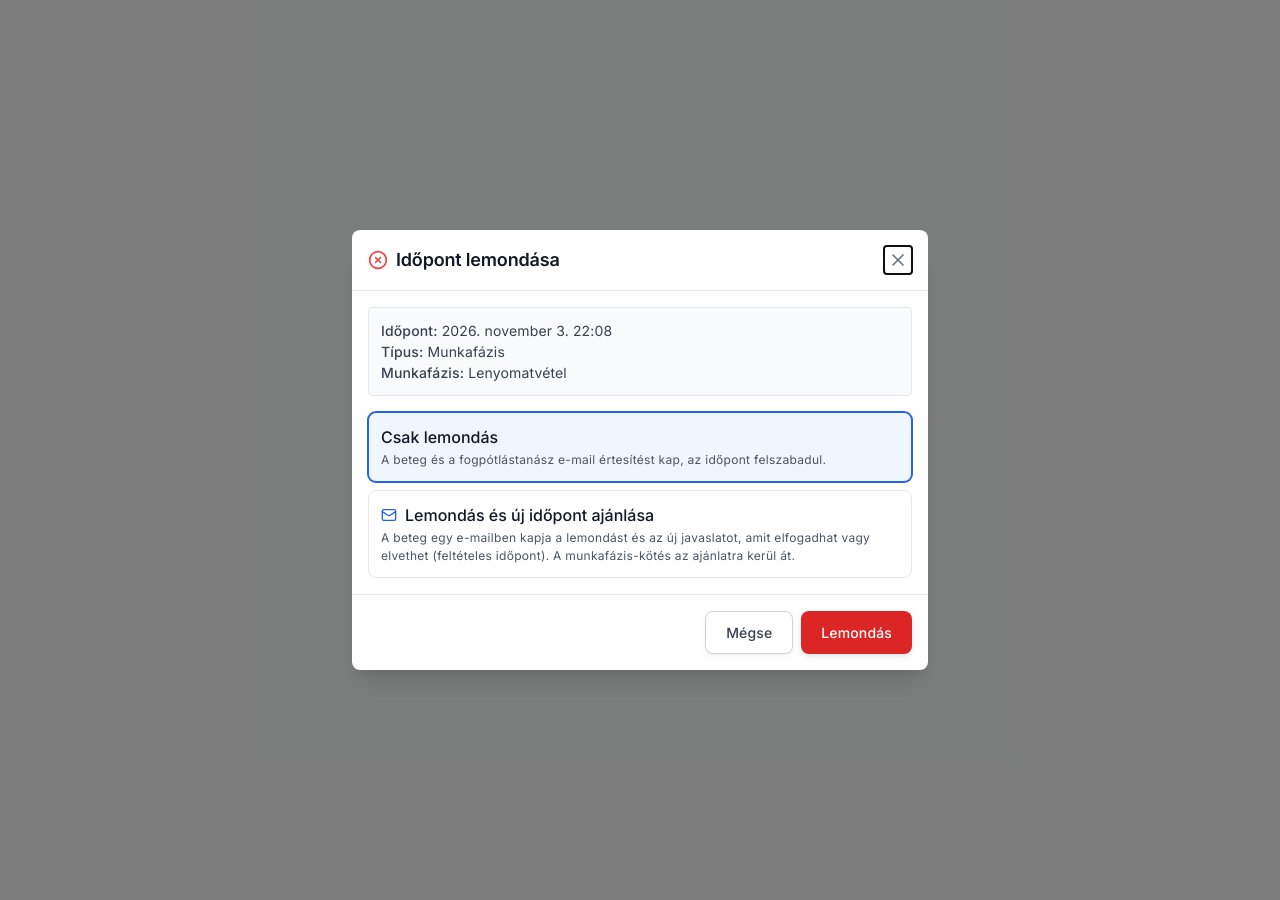
Test case: CancelAppointmentDialog › sikertelen művelet: hibaüzenet marad, a dialógus nem zár
The width and height of the screenshot is (1280, 900).
Click the button "Lemondás": (857, 633) top-left (801, 611), bottom-right (912, 654)
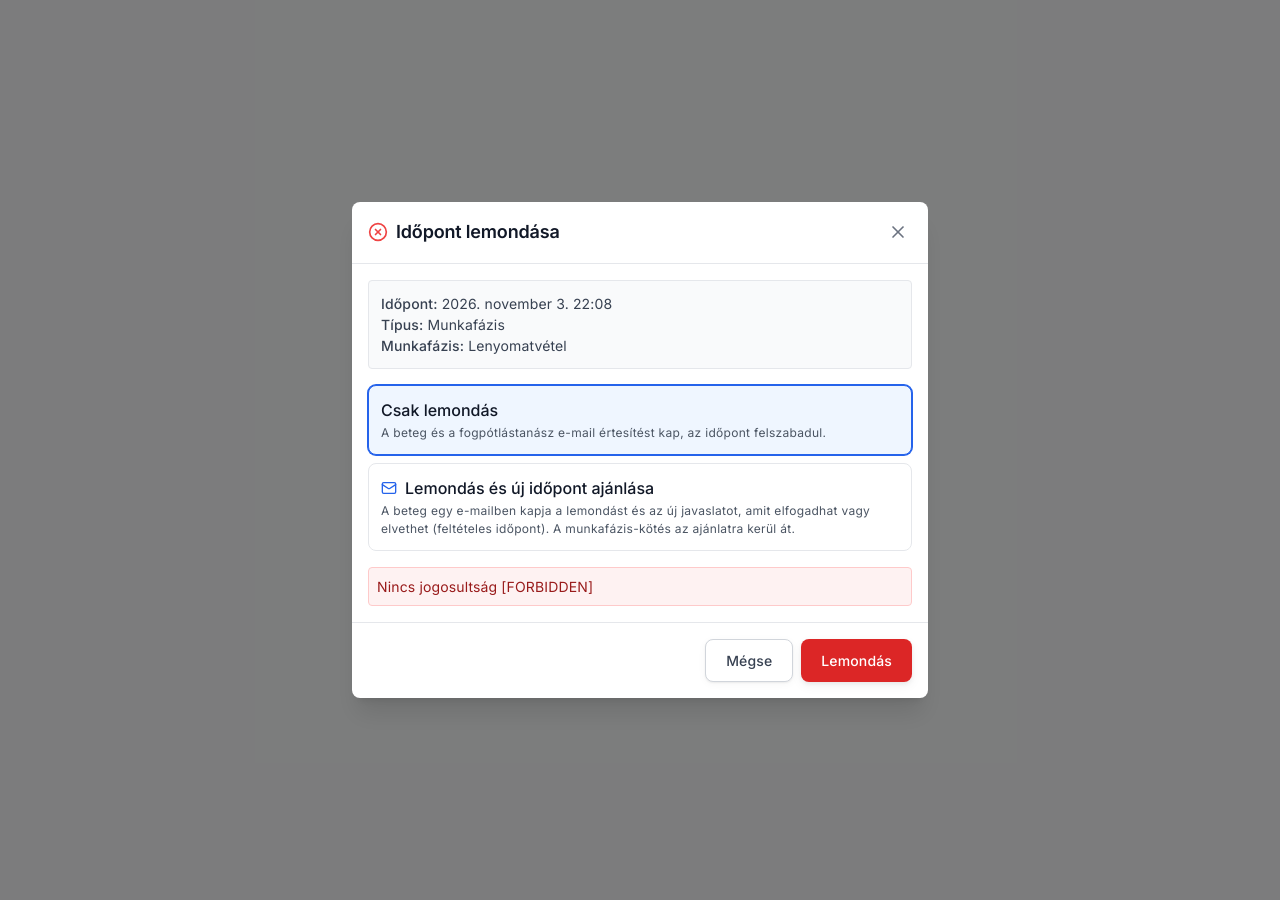
expect the message shows "Nincs jogosultság": met, box top-left (377, 578), bottom-right (593, 595)
